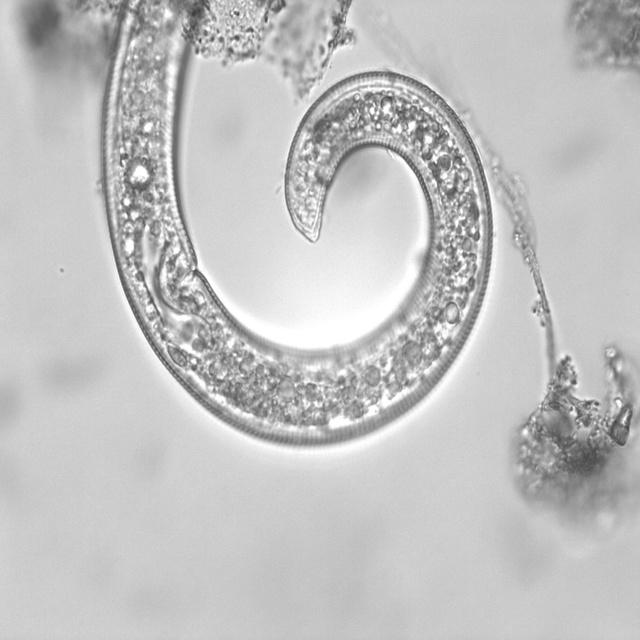Helicotylenchus: (92, 0, 512, 454)
